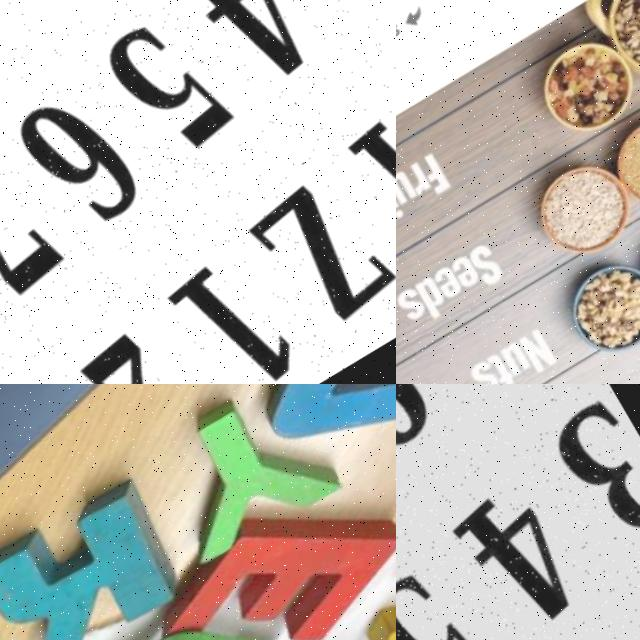1: (143, 215, 343, 384)
2: (59, 280, 264, 384)
3: (513, 384, 640, 580)
4: (417, 437, 631, 640), (148, 0, 361, 116)
5: (72, 0, 283, 188), (396, 527, 546, 640)
6: (0, 36, 218, 290)
7: (0, 115, 126, 356)
8: (396, 384, 555, 409)
9: (396, 384, 479, 501)
C: (63, 569, 339, 640)
D: (417, 270, 460, 316)
E: (136, 450, 396, 640), (452, 247, 491, 286), (435, 258, 473, 296)
F: (418, 147, 460, 192)
I: (396, 176, 413, 215)
J: (221, 384, 396, 496)
K: (0, 459, 198, 640)
N: (522, 320, 569, 368)
R: (337, 476, 396, 640), (405, 157, 437, 191)
S: (469, 235, 516, 285), (400, 281, 438, 320), (473, 351, 513, 384), (396, 17, 404, 36)
T: (491, 343, 530, 384)
U: (504, 331, 544, 371), (396, 164, 424, 201)
Y: (146, 384, 347, 565)
